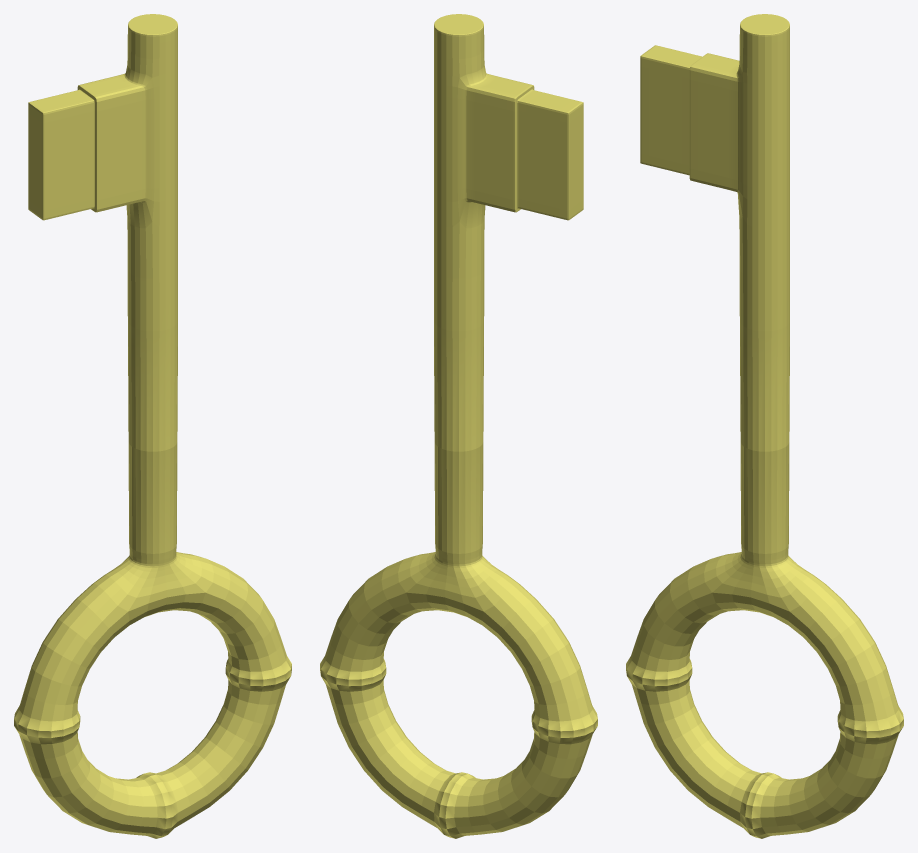
Rendered from key.fbx.
The picture shows the model from 3 angles, left to right: view 1: azimuth 30°, elevation 25°; view 2: azimuth 150°, elevation 25°; view 3: azimuth 330°, elevation 25°; orthographic projection.
Visible parts, largest first — view 1: Key; view 2: Key; view 3: Key.
Boxes of the visible parts, x1,y1,x2,y2 form: Key: (14, 14, 291, 838); Key: (320, 14, 597, 838); Key: (626, 14, 903, 838).
Bounding box in the file's own units: 22.62 × 65.08 × 4.86.
